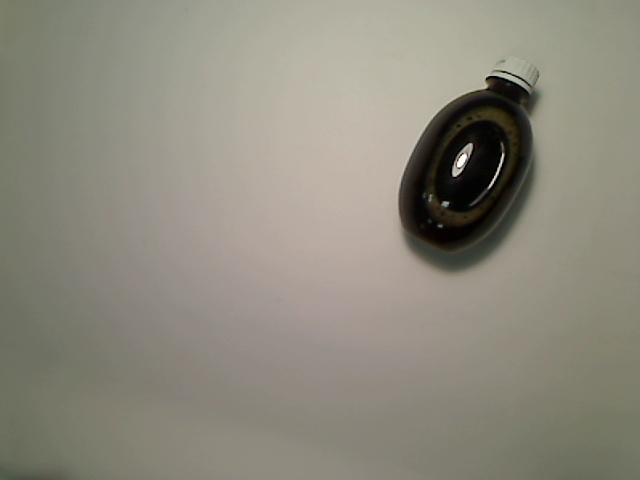plast_bottle: (397, 57, 541, 256)
